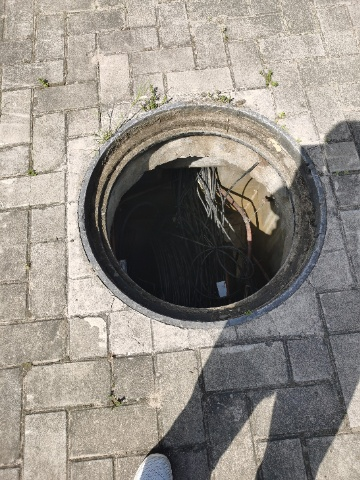lose: (77, 101, 328, 329)
